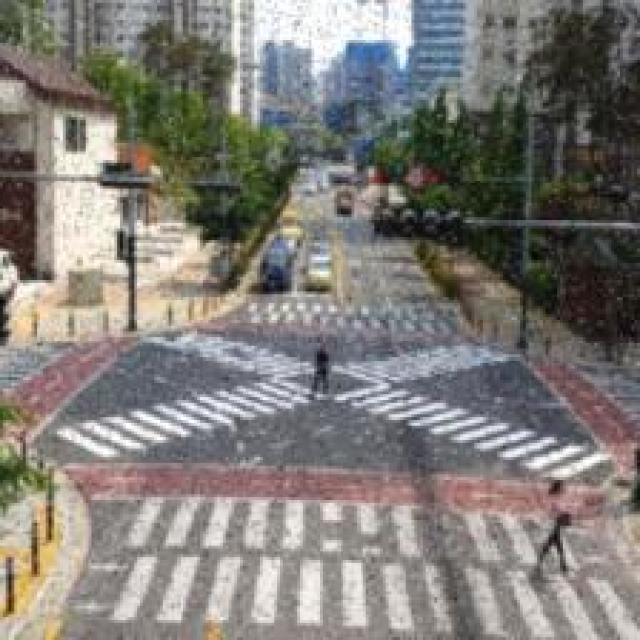zebra: (107, 480, 640, 640), (242, 298, 468, 350)
